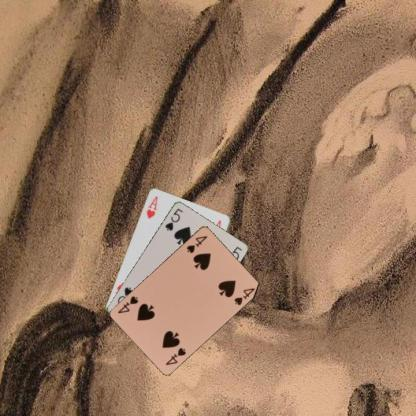4s: (184, 233, 208, 254), (163, 345, 187, 366)
5s: (162, 205, 184, 232)
Ah: (144, 194, 159, 220)
